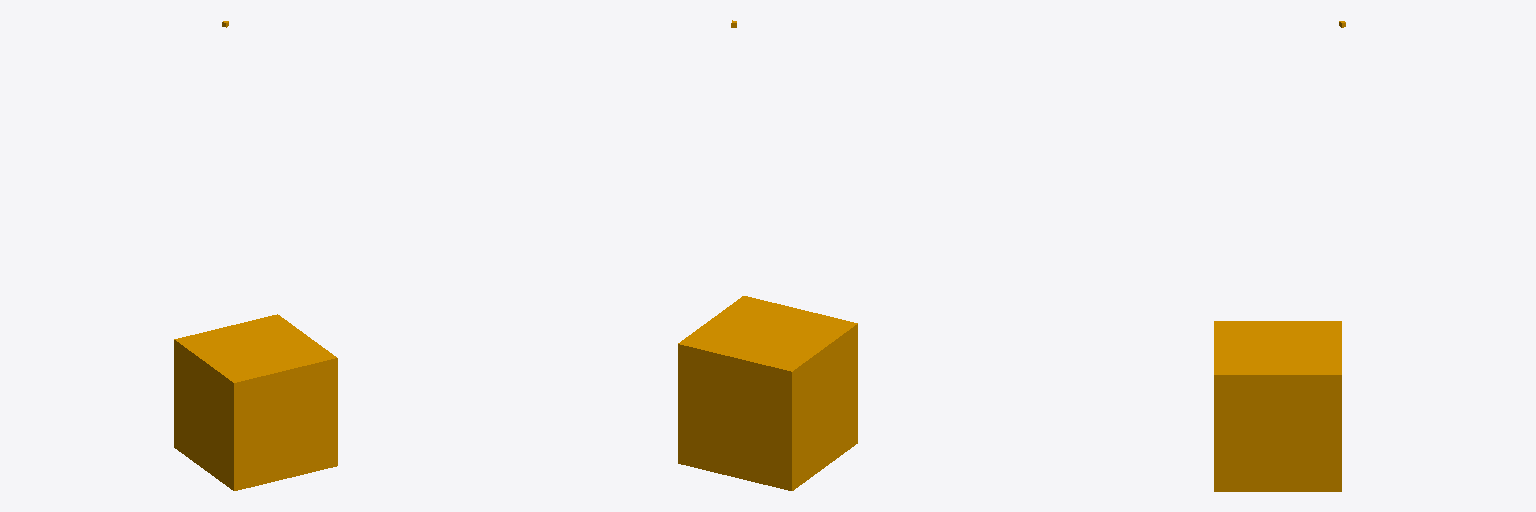
The robot description file, URDF, robot "Hulk1_0":
<?xml version="1.0"?>

<robot name="Hulk1_0" xmlns:xacro="http://ros.org/wiki/xacro">

  <link name="base_link">
    <visual>
      <geometry>
        <box size="0.25 0.25 0.25"/>
      </geometry>
      <origin rpy="0 0 0" xyz="0 0 -.01"/>
      <material name="light_green"/>
    </visual>
    <collision>
      <geometry>
        <box size="0.25 0.25 0.25"/>
      </geometry>
      <origin rpy="0 0 0" xyz="0 0 -.01"/>
    </collision>
  </link>

  <joint name="ground_joint" type="fixed">
    <parent link="base_link"/>
    <child link="J0"/>
    <origin rpy="0 0 1.57" xyz="0 0 0"/>
  </joint>

  <link
    name="J0">
    <inertial>
      <origin
        xyz="-0.000706460686426508 0.0272123685996135 0.00193762954254035"
        rpy="0 0 0" />
      <mass
        value="0.842314701534933" />
      <inertia
        ixx="0.000640396277654215"
        ixy="2.06677988354757E-05"
        ixz="1.67513473325691E-06"
        iyy="4.85082483417939E-06"
        iyz="-5.15656728401263E-05"
        izz="0.000636888258829631" />
    </inertial>
    <visual>
      <origin
        xyz="0 0 0"
        rpy="0 0 0" />
      <geometry>
        <mesh
          filename="package://jackal/meshes/hulk/J0.STL" />
      </geometry>
      <material
        name="">
        <color
          rgba="0.250980392156863 0.250980392156863 0.250980392156863 1" />
      </material>
    </visual>
    <collision>
      <origin
        xyz="0 0 0"
        rpy="0 0 0" />
      <geometry>
        <mesh
          filename="package://jackal/meshes/hulk/J0.STL" />
      </geometry>
    </collision>
  </link>


  <link
    name="J1">
    <inertial>
      <origin
        xyz="0.0127772173776092 0.105626124564998 2.10228753274429E-06"
        rpy="0 0 0" />
      <mass
        value="0.442781581809783" />
      <inertia
        ixx="0.000877466204647299"
        ixy="0.000121847255181467"
        ixz="-2.83601393295366E-09"
        iyy="1.69200294458906E-05"
        iyz="2.04231632220313E-08"
        izz="0.000894386233142485" />
    </inertial>
    <visual>
      <origin
        xyz="0 0 0"
        rpy="0 0 0" />
      <geometry>
        <mesh
          filename="package://jackal/meshes/hulk/J1.STL" />
      </geometry>
      <material
        name="">
        <color
          rgba="1 1 1 1" />
      </material>
    </visual>
    <collision>
      <origin
        xyz="0 0 0"
        rpy="0 0 0" />
      <geometry>
        <mesh
          filename="package://jackal/meshes/hulk/J1.STL" />
      </geometry>
    </collision>
  </link>


  <joint
    name="joint_0"
    type="revolute">
    <origin
      xyz="0 0 0.1407654"
      rpy="1.5707963267949 0 3.14" />
    <parent
      link="J0" />
    <child
      link="J1" />
    <axis
      xyz="0 -1 0" />
    <limit
      effort="0.1"
      velocity="0.5"
      lower="-1.57"
      upper="4.71"/>
  </joint>


  <link
    name="J2">
    <inertial>
      <origin
        xyz="-0.0743491889986352 0.106614569474647 4.41704385393124E-06"
        rpy="0 0 0" />
      <mass
        value="0.3642480151674" />
      <inertia
        ixx="0.00141211576348073"
        ixy="-0.00040192534713983"
        ixz="2.15987277006982E-08"
        iyy="0.000803141991056202"
        iyz="1.79569458366503E-08"
        izz="0.00221525773177587" />
    </inertial>
    <visual>
      <origin
        xyz="0 0 0"
        rpy="0 0 0" />
      <geometry>
        <mesh
          filename="package://jackal/meshes/hulk/J2.STL" />
      </geometry>
      <material
        name="">
        <color
          rgba="1 1 1 1" />
      </material>
    </visual>
    <collision>
      <origin
        xyz="0 0 0"
        rpy="0 0 0" />
      <geometry>
        <mesh
          filename="package://jackal/meshes/hulk/J2.STL" />
      </geometry>
    </collision>
  </link>


  <joint
    name="joint_1"
    type="revolute">
    <origin
      xyz="-0.085 0.065 0"
      rpy="0 0 0" />
    <parent
      link="J1" />
    <child
      link="J2" />
    <axis
      xyz="-1 0 0" />
    <limit
       effort="0.1"
      velocity="0.5"
      lower="-1.57"
      upper="1.57"/>
  </joint>


  <link
    name="J3">
    <inertial>
      <origin
        xyz="-0.00926617799445192 0.00658931422310832 -4.38122731752212E-09"
        rpy="0 0 0" />
      <mass
        value="0.345826493526104" />
      <inertia
        ixx="1.9396077787513E-05"
        ixy="2.11270458049182E-05"
        ixz="-1.85495999326357E-10"
        iyy="0.000266237995536425"
        iyz="6.61612988099599E-10"
        izz="0.000285634073276447" />
    </inertial>
    <visual>
      <origin
        xyz="0 0 0"
        rpy="0 0 0" />
      <geometry>
        <mesh
          filename="package://jackal/meshes/hulk/J3.STL" />
      </geometry>
      <material
        name="">
        <color
          rgba="1 1 1 1" />
      </material>
    </visual>
    <collision>
      <origin
        xyz="0 0 0"
        rpy="0 0 0" />
      <geometry>
        <mesh
          filename="package://jackal/meshes/hulk/J3.STL" />
      </geometry>
    </collision>
  </link>


 
  <joint
    name="joint_2"
    type="revolute">
    <origin
      xyz="0.08502 0.25 0"
      rpy="0 0 0" />
    <parent
      link="J2" />
    <child
      link="J3" />
    <axis
      xyz="-1 0 0" />
    <limit
       effort="0.1"
      velocity="0.5"
      lower="-1.57"
      upper="2.2"/>
  </joint>



  <link
    name="J4">
    <inertial>
      <origin
        xyz="-0.000448626229838095 0.176874933893527 2.14790414117386E-07"
        rpy="0 0 0" />
      <mass
        value="0.466846295068837" />
      <inertia
        ixx="0.00022270062549776"
        ixy="-0.000212778842009606"
        ixz="-2.48816359304575E-09"
        iyy="0.000203299095001316"
        iyz="-2.6041855628261E-09"
        izz="0.000425999720438171" />
    </inertial>
    <visual>
      <origin
        xyz="0 0 0"
        rpy="0 0 0" />
      <geometry>
        <mesh
          filename="package://jackal/meshes/hulk/J4.STL" />
      </geometry>
      <material
        name="">
        <color
          rgba="1 1 1 1" />
      </material>
    </visual>
    <collision>
      <origin
        xyz="0 0 0"
        rpy="0 0 0" />
      <geometry>
        <mesh
          filename="package://jackal/meshes/hulk/J4.STL" />
      </geometry>
    </collision>
  </link>


  <joint
    name="joint_3"
    type="revolute">
    <origin
      xyz="0 0.00720000000000004 0"
      rpy="0 0 0" />
    <parent
      link="J3" />
    <child
      link="J4" />
    <axis
      xyz="0 -1 0" />
    <limit
       effort="0.1"
      velocity="0.5"
      lower="-1.57"
      upper="1.57"/>
  </joint>




  <link
    name="J5">
    <inertial>
      <origin
        xyz="-0.00237225455270351 0.0014615624788088 0.000181070552634091"
        rpy="0 0 0" />
      <mass
        value="0.20971977555193" />
      <inertia
        ixx="1.42777031785356E-05"
        ixy="3.04581558802881E-06"
        ixz="5.65513528953968E-07"
        iyy="0.000212786912409375"
        iyz="-7.9689999149159E-08"
        izz="0.000227060889366871" />
    </inertial>
    <visual>
      <origin
        xyz="0 0 0"
        rpy="0 0 0" />
      <geometry>
        <mesh
          filename="package://jackal/meshes/hulk/J5.STL" />
      </geometry>
      <material
        name="">
        <color
          rgba="1 1 1 1" />
      </material>
    </visual>
    <collision>
      <origin
        xyz="0 0 0"
        rpy="0 0 0" />
      <geometry>
        <mesh
          filename="package://jackal/meshes/hulk/J5.STL" />
      </geometry>
    </collision>
  </link>



  <joint
    name="joint_4"
    type="revolute">
    <origin
      xyz="-0.1272 0.25 0"
      rpy="3.14159265358979 0 3.14159265358979" />
    <parent
      link="J4" />
    <child
      link="J5" />
    <axis
      xyz="-1 0 0" />
    <limit
       effort="0.1"
      velocity="0.5"
      lower="-3.14"
      upper="3.14"/>
  </joint>


  <link
    name="J6">
    <inertial>
      <origin
        xyz="-0.000778746944208354 0.0315829342820825 0.000266219178146593"
        rpy="0 0 0" />
      <mass
        value="0.101804171454542" />
      <inertia
        ixx="1.74767539269875E-05"
        ixy="1.04680910411378E-06"
        ixz="2.14436839248118E-08"
        iyy="7.00579222235942E-08"
        iyz="-3.57857788651442E-07"
        izz="1.75321505527441E-05" />
    </inertial>
    <visual>
      <origin
        xyz="0 0 0"
        rpy="0 0 0" />
      <geometry>
        <mesh
          filename="package://jackal/meshes/hulk/J6.STL" />
      </geometry>
      <material
        name="">
        <color
          rgba="1 1 1 1" />
      </material>
    </visual>
    <collision>
      <origin
        xyz="0 0 0"
        rpy="0 0 0" />
      <geometry>
        <mesh
          filename="package://jackal/meshes/hulk/J6.STL" />
      </geometry>
    </collision>
  </link>


  <joint
    name="joint_5"
    type="revolute">
    <origin
      xyz="0 0.0497 0"
      rpy="1.44884219526511E-16 -1.09498203910656 -1.28790483575377E-16" />
    <parent
      link="J5" />
    <child
      link="J6" />
    <axis
      xyz="0 1 0" />
    <limit
      effort="0.1"
      velocity="0.5"
      lower="-3.14"
      upper="3.14"/>
  </joint>



  <!-- add fake end effector for place the gripper to the right position-->
  <link name="fake_end_effector_link">
    <visual>
      <geometry>
        <box size="0.01 0.01 0.01"/>
      </geometry>
      <origin rpy="0 0 0" xyz="0 0 0"/>
      <material name="red"/>
    </visual>

     <collision>
      <geometry>
        <box size="0 0 0"/>
      </geometry>
      <origin rpy="0 0 0" xyz="0 0 0"/>
    </collision>
  </link>

  <joint name="fake_end_effector_joint" type="fixed">
    <origin rpy="0 0 0" xyz="0 0.05 0"/>
    <parent link="J6"/>
    <child link="fake_end_effector_link"/>
  </joint>



</robot>

--- What the picture shows (computed from the rendered views, not written in the file) ---
3 views of the same robot in one strip: view 1: azimuth 30°, elevation 25°; view 2: azimuth 150°, elevation 25°; view 3: azimuth 270°, elevation 25° (orthographic).
Model Hulk1_0 with 9 links and 8 joints (6 revolute, 2 fixed), rooted at base_link, posed every joint at zero.
Visible links, largest first — view 1: base_link; view 2: base_link; view 3: base_link.
Boxes of the visible links, <box> form: base_link: <box>174,314,337,490</box>; base_link: <box>678,296,857,490</box>; base_link: <box>1214,321,1341,491</box>.
Size in the robot's own frame: 0.25 by 0.2589 by 0.9527 metres.
0 mesh visuals loaded from 7 distinct referenced files (none loaded); not drawn: 7 (reference not matched to a file when rendering).